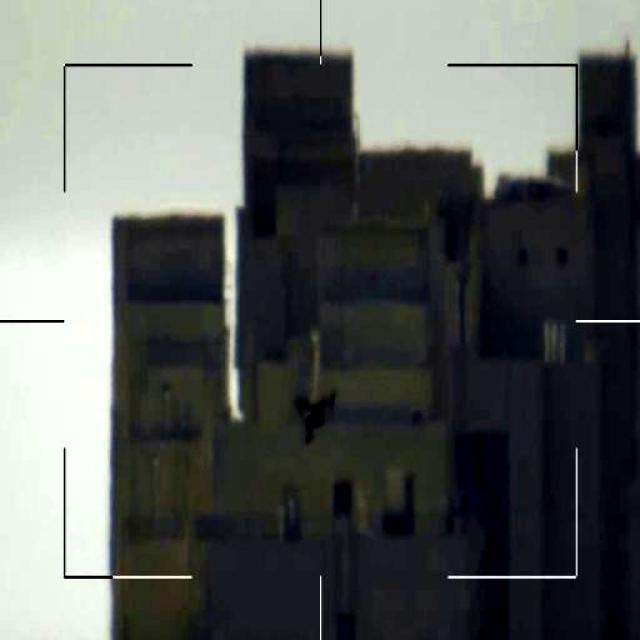bird: (289, 378, 338, 454)
